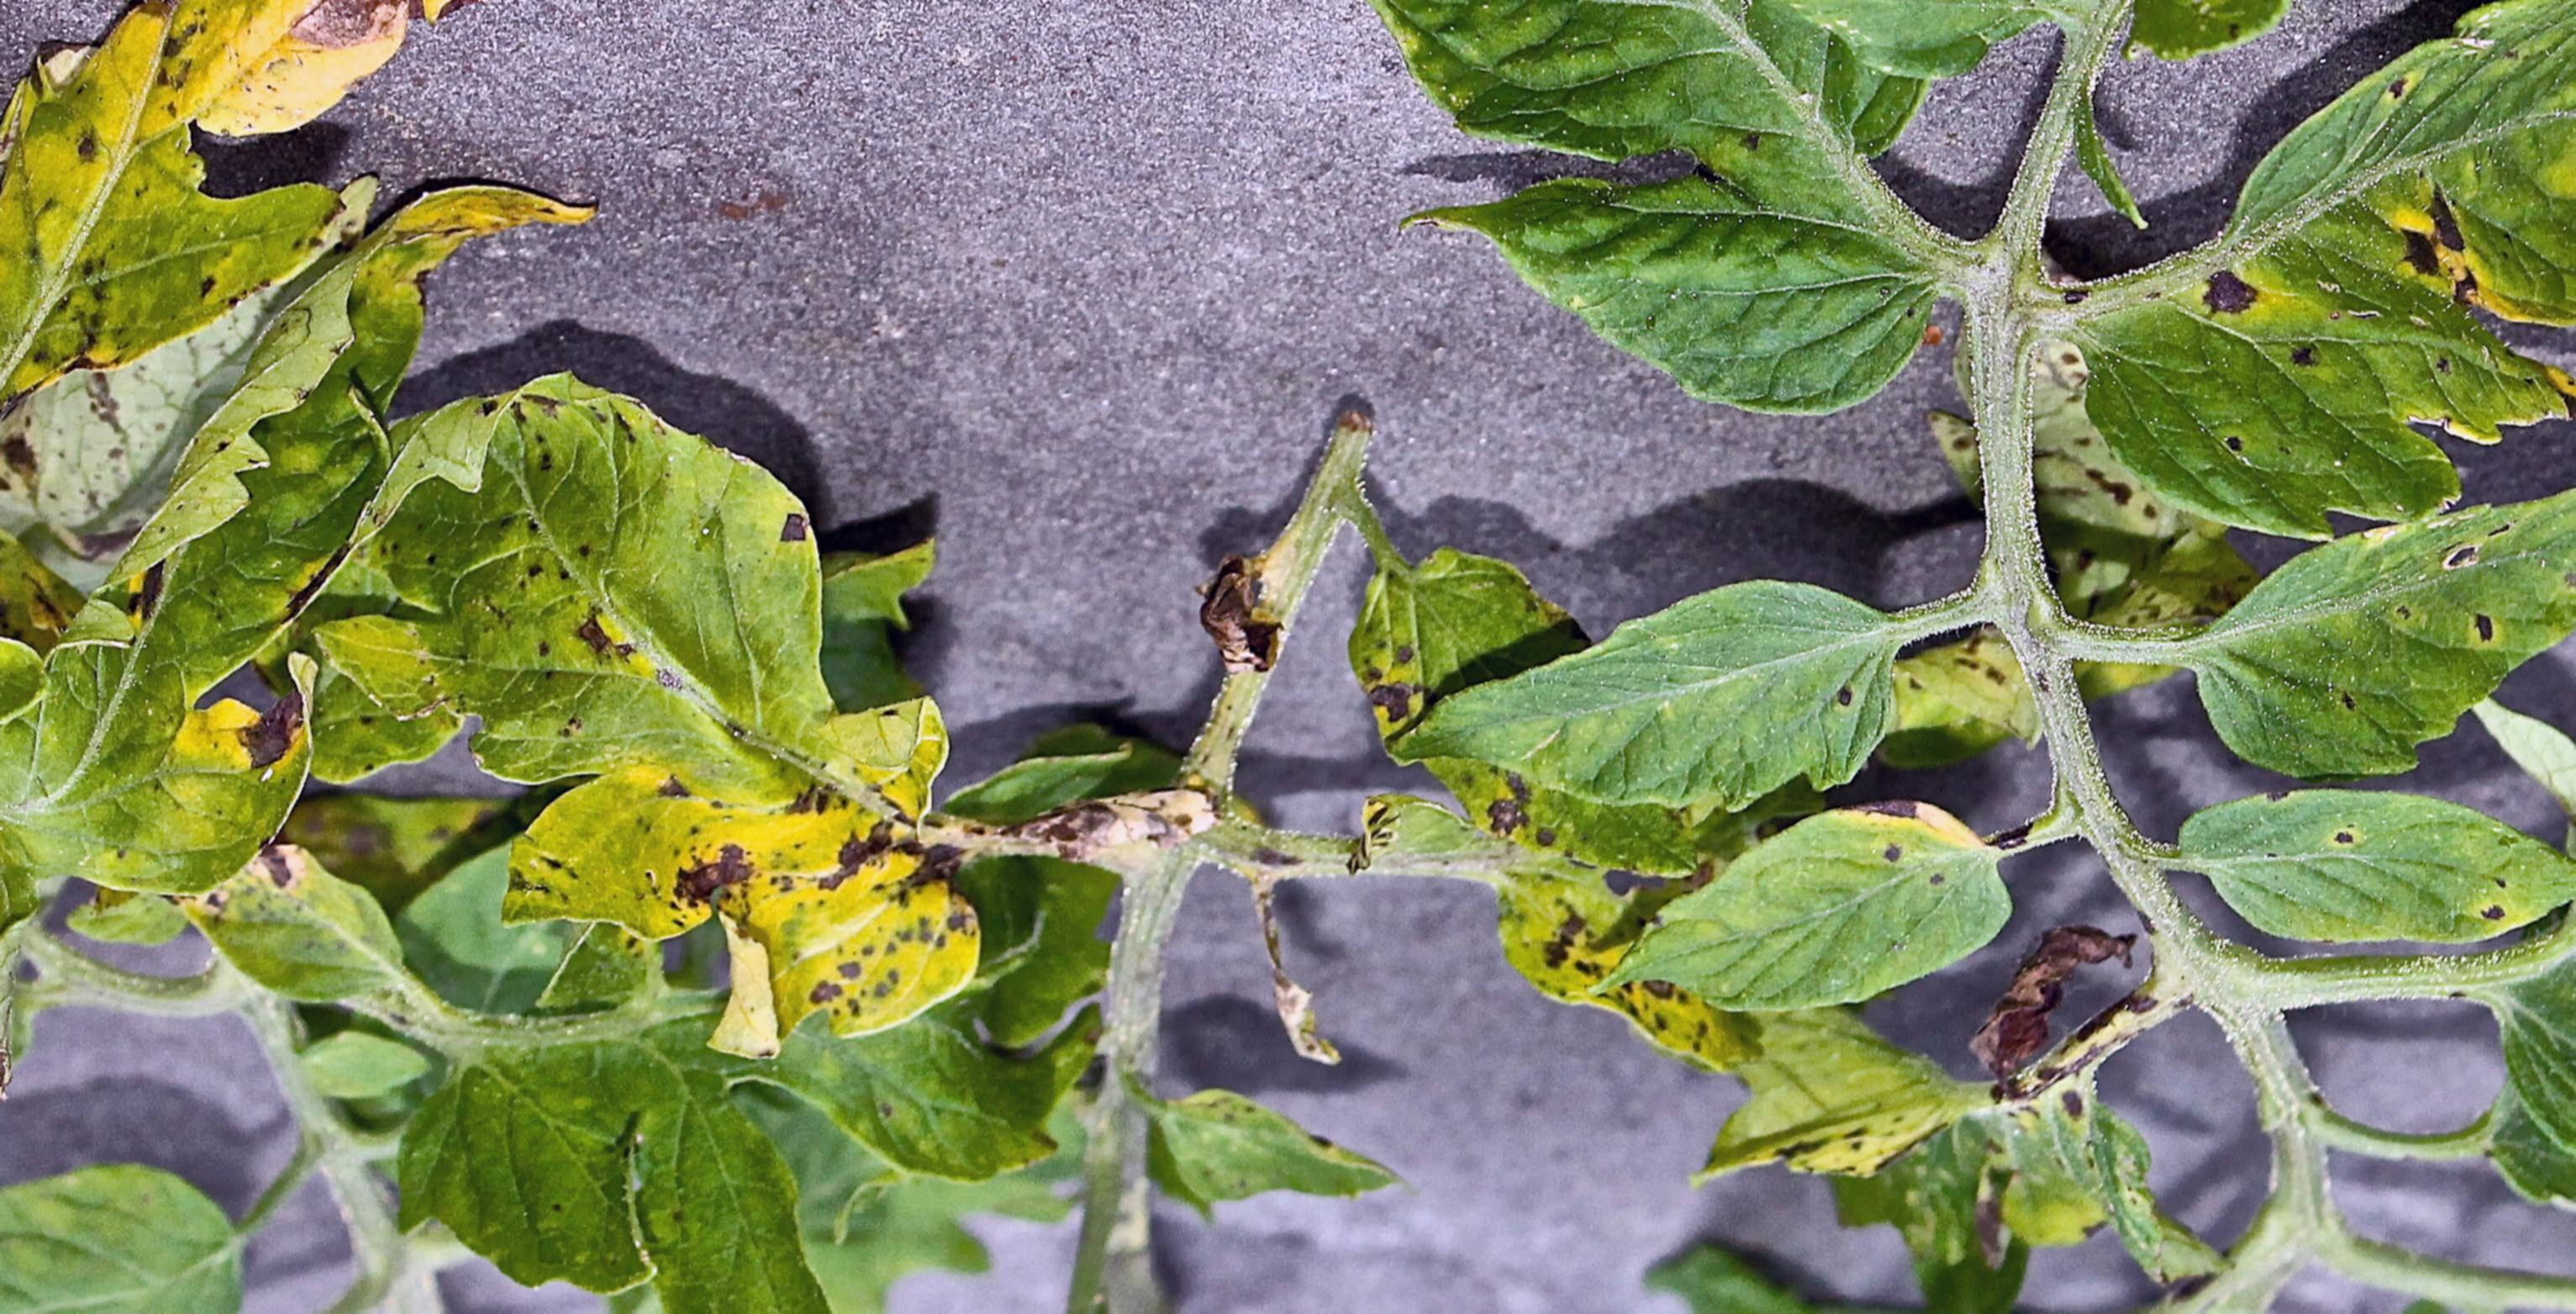Tomato Septoria leaf spot: (379, 397, 1050, 1011), (1159, 0, 1978, 384), (2052, 0, 2576, 525), (0, 0, 507, 504)
